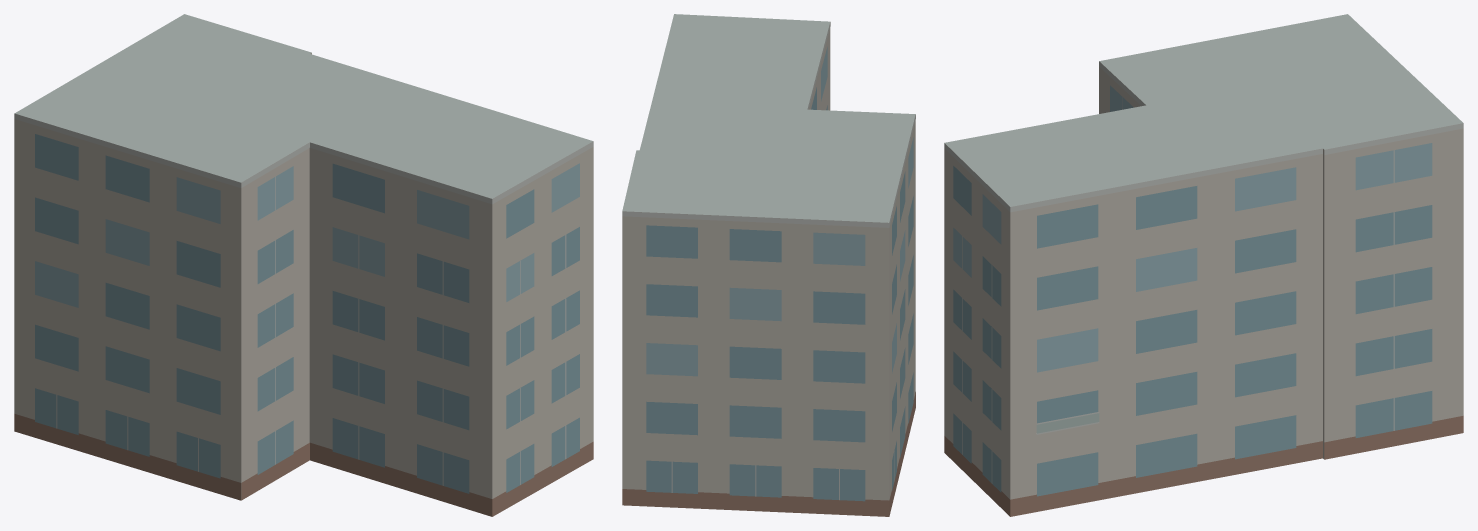
The model's file is survey-upis-32580950.glb.
The picture shows the model from 3 angles, left to right: view 1: azimuth 30°, elevation 25°; view 2: azimuth 150°, elevation 25°; view 3: azimuth 270°, elevation 25°; orthographic projection. The views are drawn at different scales.
Parts seen in each view (by area): view 1: survey-upis-32580950.tmp; view 2: survey-upis-32580950.tmp; view 3: survey-upis-32580950.tmp.
Boxes of the visible parts, <box> form: survey-upis-32580950.tmp: <box>14,14,593,516</box>; survey-upis-32580950.tmp: <box>622,14,915,516</box>; survey-upis-32580950.tmp: <box>944,14,1463,516</box>.
Size of the model in its own units: 18.85 by 14.1 by 21.43.
